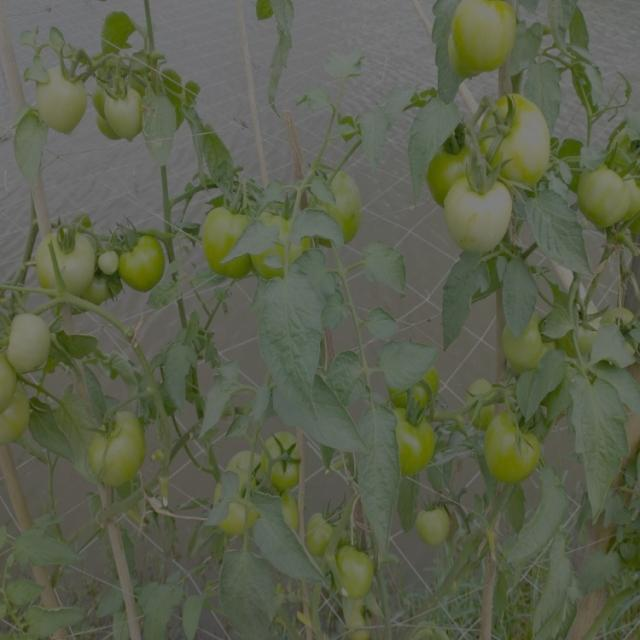tomato: (480, 92, 552, 182), (442, 178, 516, 254), (200, 193, 258, 283), (448, 6, 522, 76), (30, 55, 91, 137), (82, 409, 145, 486), (34, 224, 99, 297), (307, 171, 365, 247), (254, 199, 305, 282), (115, 226, 172, 295), (97, 69, 148, 143), (486, 414, 542, 481), (500, 308, 553, 378), (391, 408, 443, 473), (420, 126, 475, 184), (5, 314, 54, 374), (580, 160, 627, 221), (410, 498, 462, 552), (329, 550, 380, 605), (261, 433, 307, 493), (385, 357, 440, 407), (605, 300, 640, 364), (216, 495, 261, 542), (566, 298, 599, 362), (4, 378, 32, 449), (308, 508, 341, 552), (466, 378, 502, 418), (227, 448, 255, 489), (277, 498, 304, 539), (631, 176, 640, 218)
